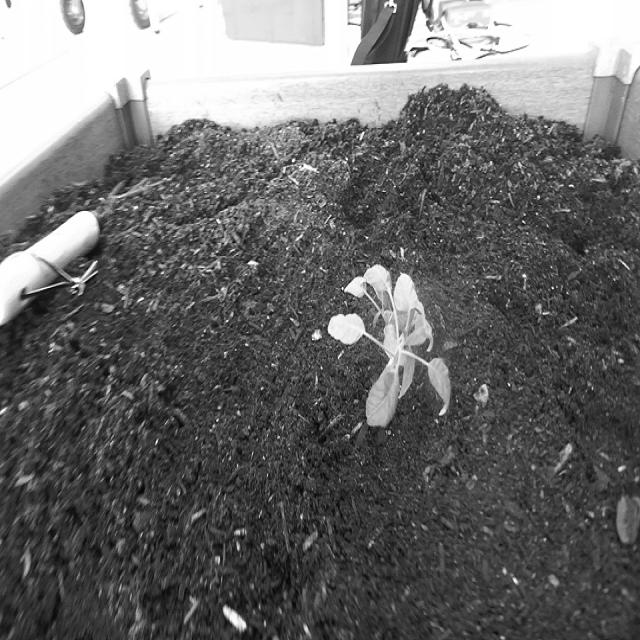Healthy: (320, 255, 458, 442)
